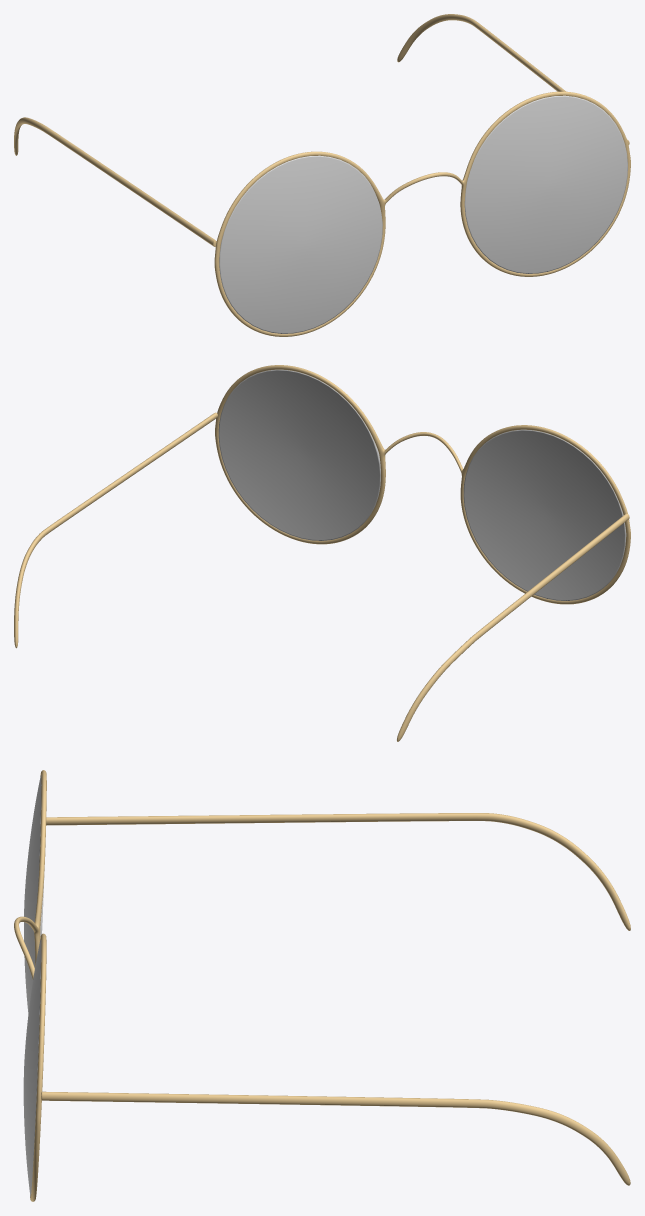
Rendered from glasses.glb.
3 views of the same model, one above another, from view 1: azimuth 30°, elevation 25°; view 2: azimuth 150°, elevation 25°; view 3: azimuth 270°, elevation 25° (orthographic). The views are drawn at different scales.
Visible parts, largest first — view 1: glasses lenses, glasses frame; view 2: glasses lenses, glasses frame; view 3: glasses frame, glasses lenses.
Boxes of the visible parts, x1=… form: glasses lenses: x1=219, y1=95, x2=627, y2=333; glasses frame: x1=14, y1=14, x2=630, y2=336; glasses lenses: x1=218, y1=369, x2=626, y2=600; glasses frame: x1=14, y1=365, x2=630, y2=741; glasses frame: x1=14, y1=770, x2=630, y2=1201; glasses lenses: x1=23, y1=775, x2=44, y2=1196.
Bounding box in the file's own units: 0.1315 × 0.0514 × 0.1181.
